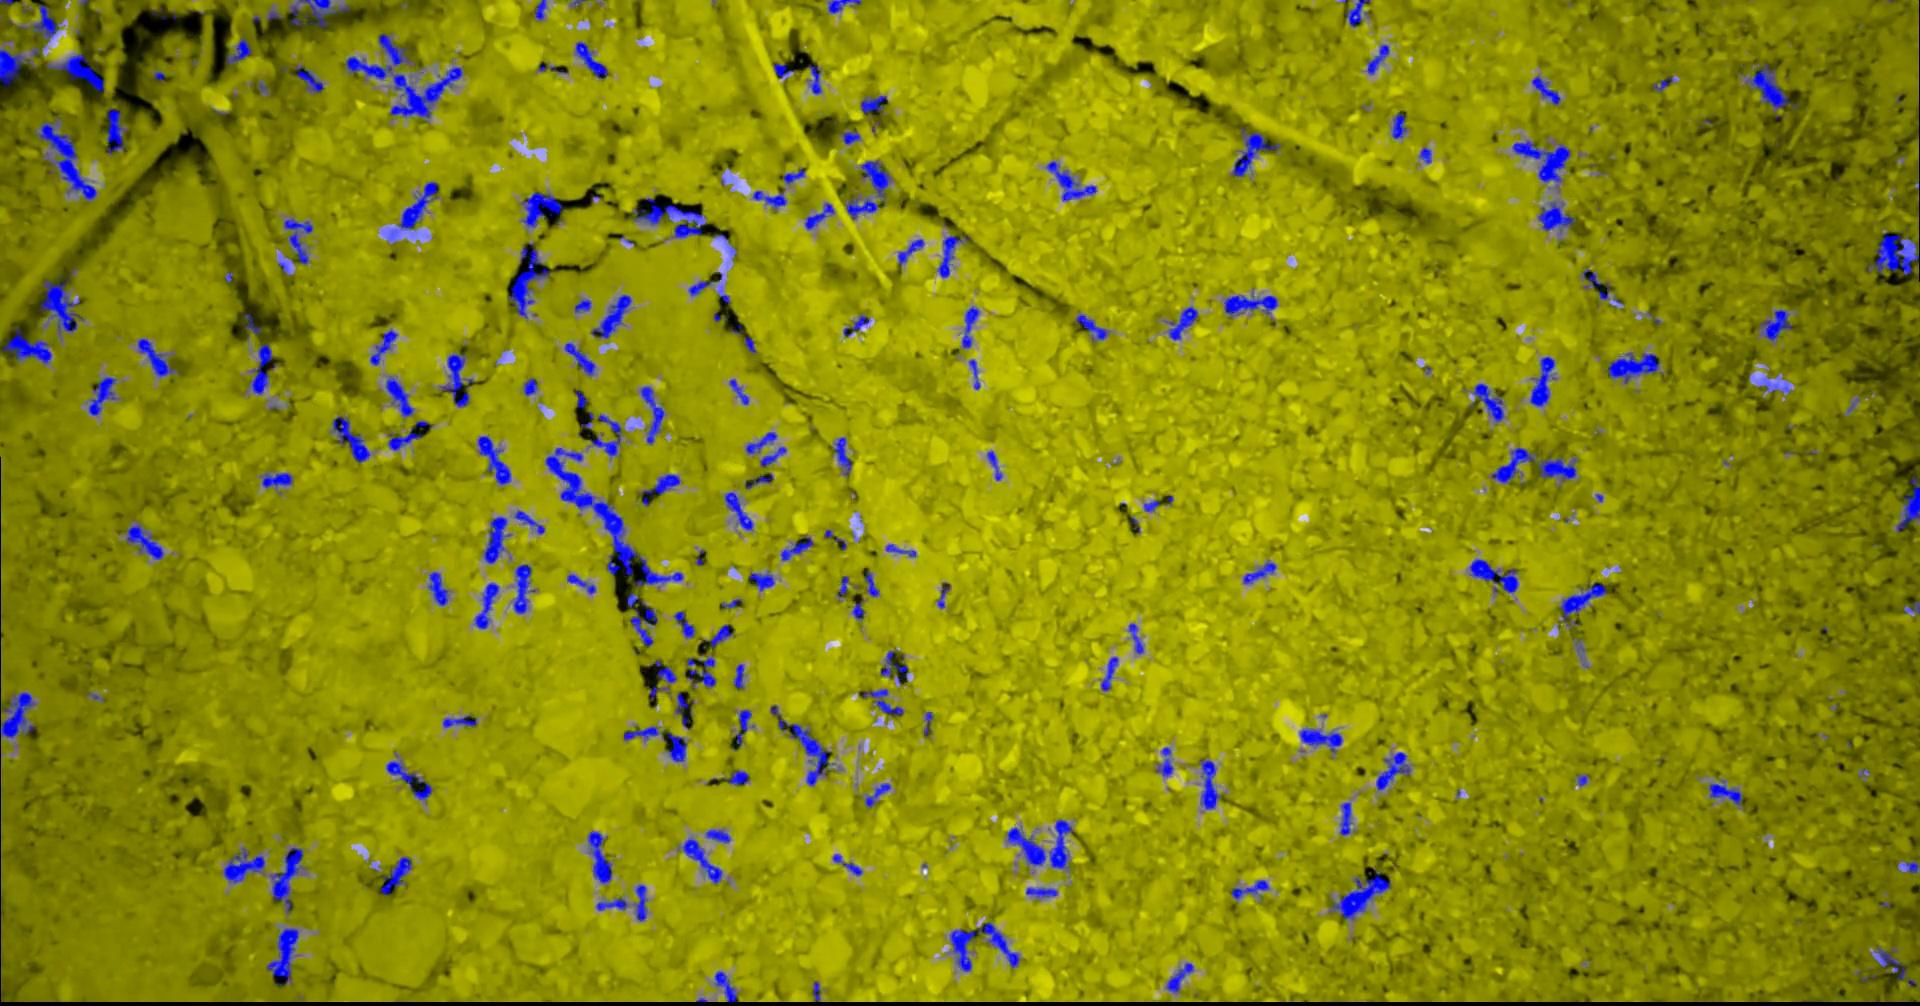ant: (770, 704, 833, 785), (507, 243, 549, 318), (1330, 871, 1390, 920), (1511, 140, 1570, 187), (1230, 127, 1280, 177), (1747, 64, 1797, 111), (44, 53, 104, 91), (1559, 583, 1608, 629), (623, 727, 686, 761), (270, 847, 302, 913), (1045, 161, 1096, 199), (397, 180, 437, 229), (265, 927, 298, 984), (0, 328, 51, 365), (681, 838, 723, 883), (439, 353, 474, 406), (590, 293, 631, 338), (580, 412, 621, 456), (331, 417, 370, 462), (385, 761, 430, 799), (1469, 558, 1517, 592), (477, 434, 510, 484), (288, 0, 349, 27), (626, 593, 657, 647), (1608, 352, 1658, 384), (1874, 945, 1915, 984), (0, 692, 34, 737), (137, 338, 177, 376), (521, 191, 561, 227), (639, 386, 664, 445), (223, 847, 264, 883), (860, 160, 890, 205), (1529, 356, 1556, 406), (1375, 751, 1410, 790), (639, 473, 679, 506), (283, 218, 312, 264), (937, 235, 969, 277), (483, 516, 510, 563), (0, 48, 36, 85), (126, 525, 163, 559), (587, 831, 611, 883), (380, 856, 411, 895), (1223, 293, 1277, 316), (1896, 478, 1919, 531), (385, 375, 413, 417), (575, 41, 607, 77), (1472, 384, 1503, 420), (1537, 201, 1575, 231), (249, 343, 272, 394), (1299, 727, 1342, 753), (1199, 760, 1222, 809), (474, 582, 498, 627), (88, 376, 116, 415), (513, 563, 535, 614), (684, 653, 715, 688), (862, 688, 903, 715), (724, 492, 752, 530), (649, 659, 676, 699), (564, 342, 596, 375), (30, 4, 58, 41), (370, 328, 397, 365), (105, 107, 127, 154), (1759, 309, 1790, 340), (1168, 306, 1197, 340), (880, 650, 908, 683), (1708, 779, 1742, 805), (1581, 267, 1609, 298), (1076, 312, 1107, 340), (1531, 75, 1559, 105), (780, 535, 813, 560), (830, 437, 851, 478), (804, 202, 834, 229), (1166, 962, 1192, 992), (897, 238, 924, 265), (1230, 879, 1269, 899), (1243, 559, 1275, 583), (734, 709, 754, 746), (295, 65, 323, 91), (714, 970, 737, 1002), (961, 306, 979, 347), (387, 429, 423, 450), (427, 572, 448, 605), (745, 431, 776, 453), (513, 511, 543, 533), (846, 197, 877, 218), (226, 37, 251, 64), (1366, 44, 1389, 74), (832, 854, 862, 875), (752, 191, 786, 210), (1345, 0, 1369, 27), (863, 782, 890, 807), (566, 573, 596, 594), (1100, 655, 1117, 690), (843, 314, 869, 337), (673, 610, 695, 636), (759, 446, 786, 466), (709, 624, 731, 647), (985, 450, 1002, 480), (1156, 746, 1172, 776), (729, 379, 748, 404), (860, 95, 886, 113), (748, 572, 775, 589), (1128, 622, 1143, 653), (635, 884, 648, 920), (260, 473, 292, 486), (823, 528, 844, 549), (827, 0, 861, 13), (808, 64, 822, 94), (744, 473, 772, 488), (885, 542, 916, 556), (723, 768, 748, 785), (1338, 801, 1351, 835), (1390, 112, 1406, 138), (863, 569, 879, 596), (596, 897, 627, 909), (442, 715, 476, 727), (243, 312, 262, 333), (688, 279, 712, 295), (782, 168, 804, 184), (936, 582, 949, 608), (968, 359, 979, 389), (773, 62, 795, 77), (705, 829, 730, 842), (1025, 887, 1057, 897), (1652, 76, 1672, 91), (1896, 860, 1919, 873), (836, 575, 848, 597), (676, 692, 688, 714), (733, 663, 743, 688), (841, 130, 858, 144), (923, 711, 933, 735), (574, 298, 590, 312), (523, 379, 537, 395), (1902, 600, 1919, 614), (574, 389, 587, 406), (720, 598, 742, 608), (535, 0, 546, 19), (852, 601, 863, 619), (1418, 147, 1431, 163), (744, 335, 756, 352), (1143, 499, 1159, 511), (811, 981, 820, 1001)
